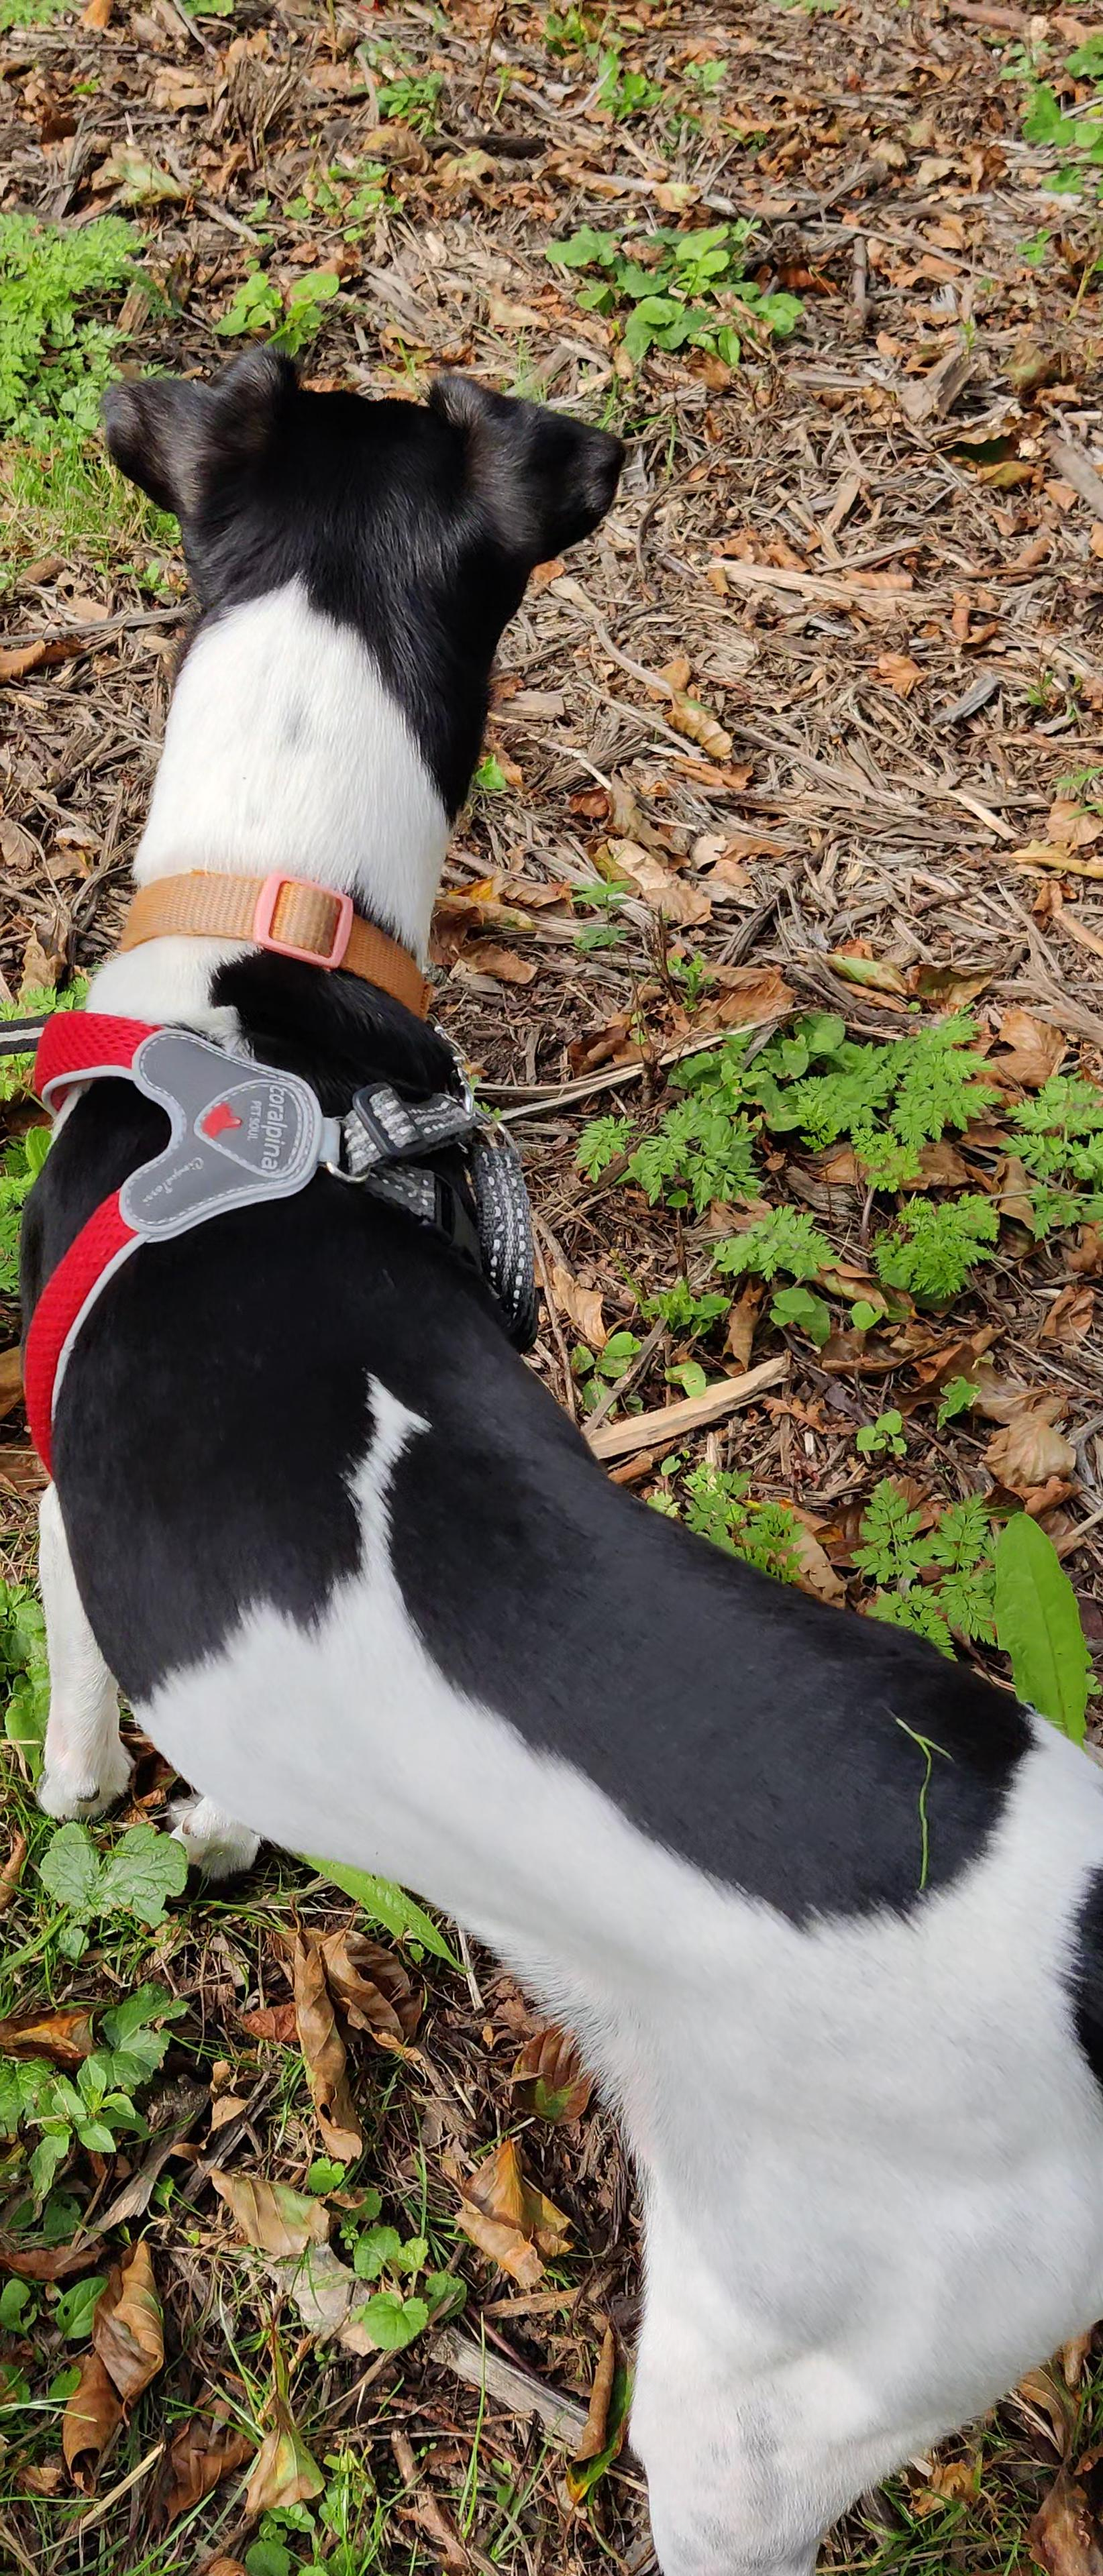Dog: (15, 342, 1103, 2576)
